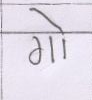o_matra: (35, 8, 74, 58)
